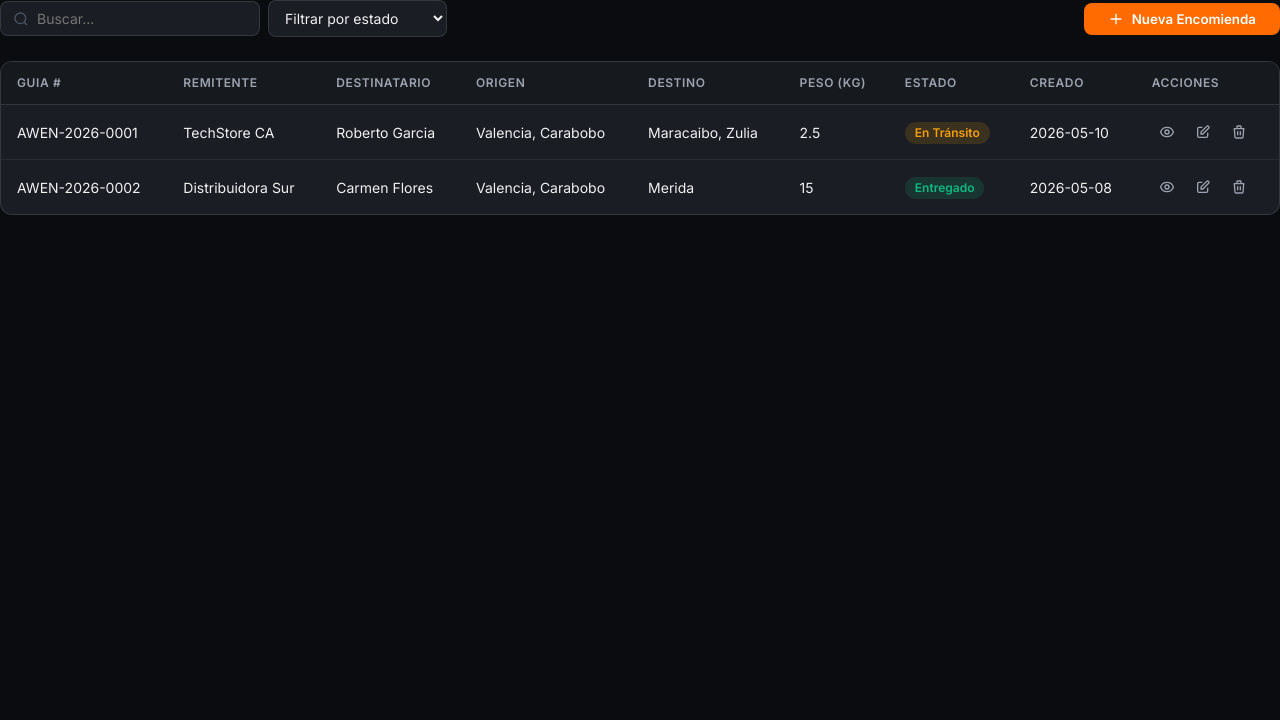
Test case: ParcelManagement › elimina una encomienda tras confirmar
Expected: the text "AWEN-2026-0001" is shown, [1,104,167,160]
Click the button titled "Eliminar" in the row of "AWEN-2026-0001": {"x": 1239, "y": 132} [1224,117,1254,147]
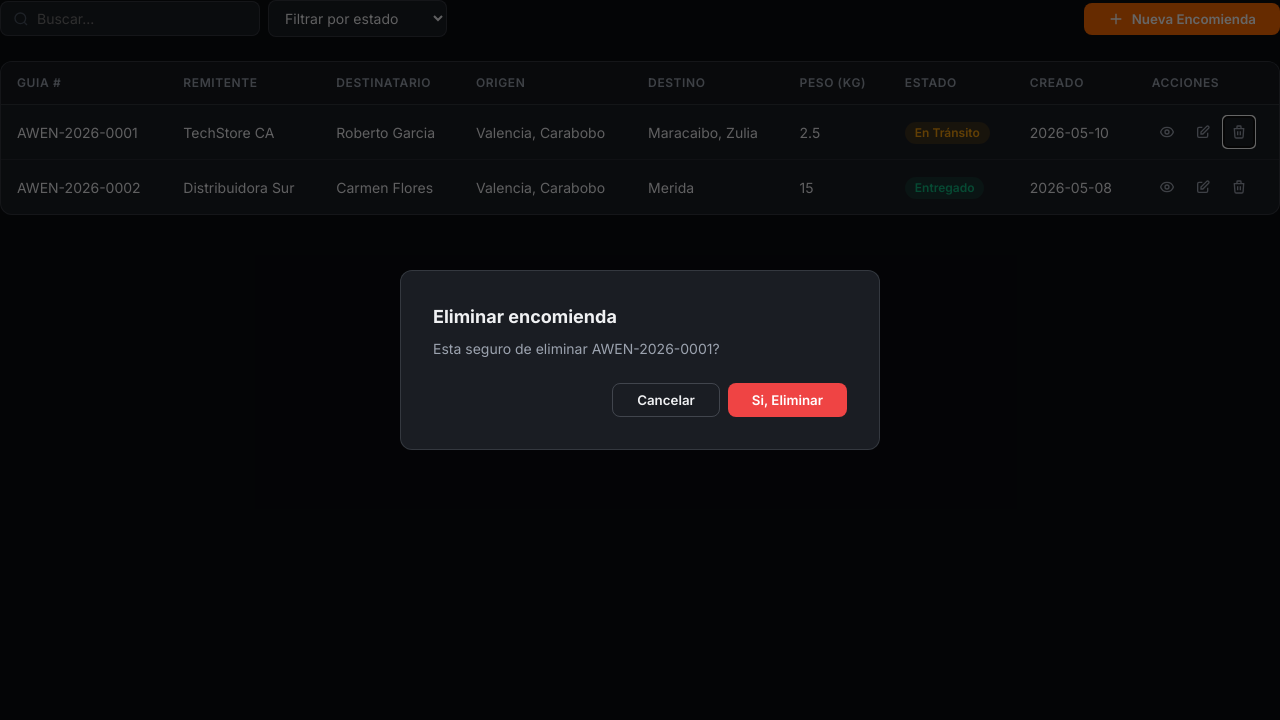
Expected: the text "Eliminar encomienda" is shown, [433,306,617,327]
Click the button "Si, Eliminar": {"x": 787, "y": 400} [728,383,847,417]
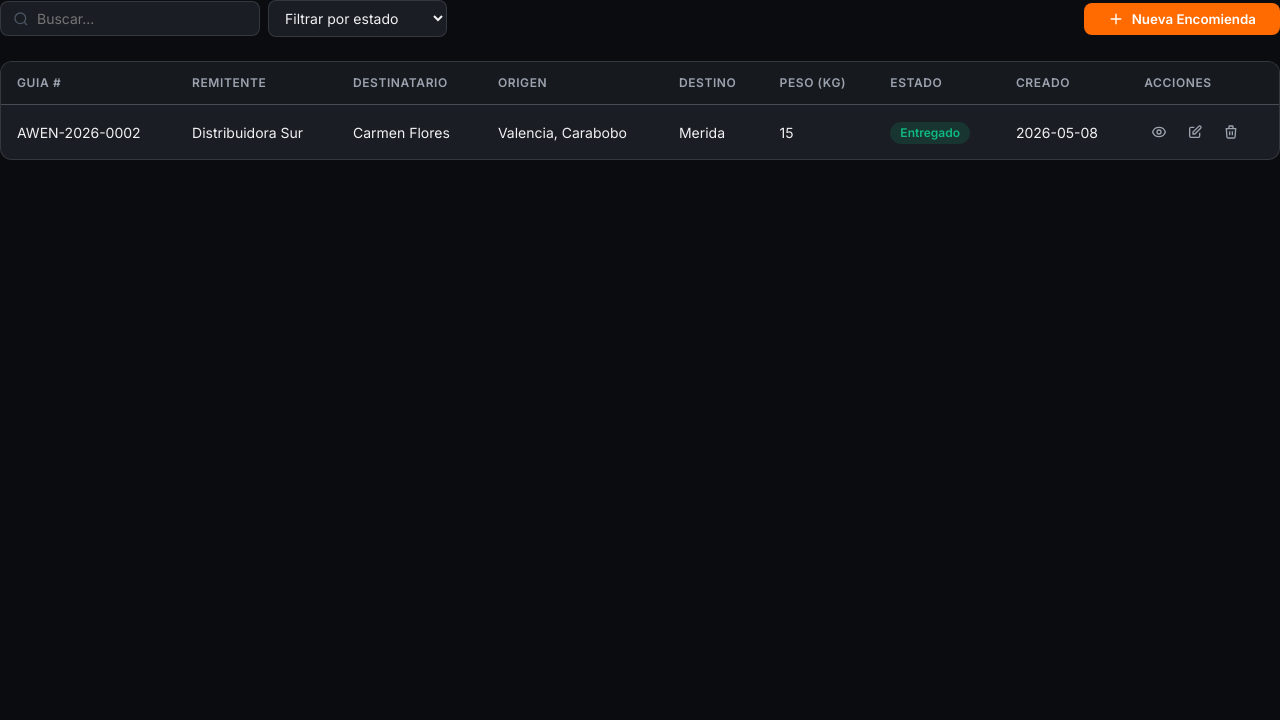
Expected: the text "AWEN-2026-0001" is gone
